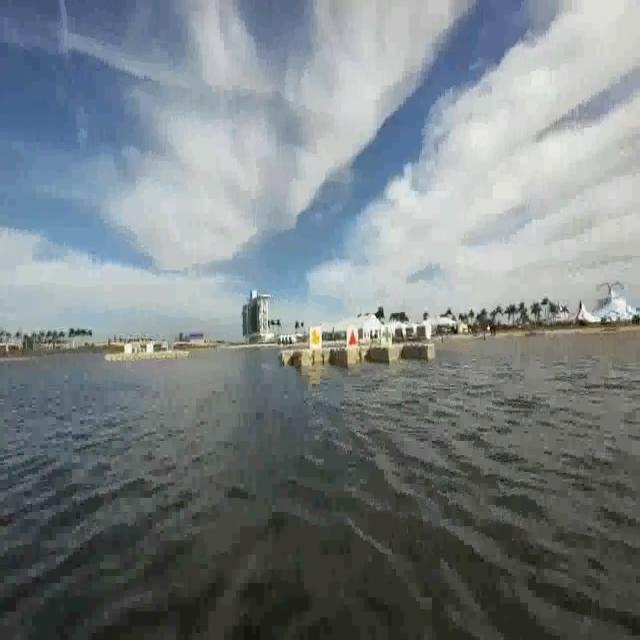blue-cross: (380, 322, 392, 346)
red-dot: (348, 322, 358, 349)
yellow-duck: (311, 326, 320, 350)
